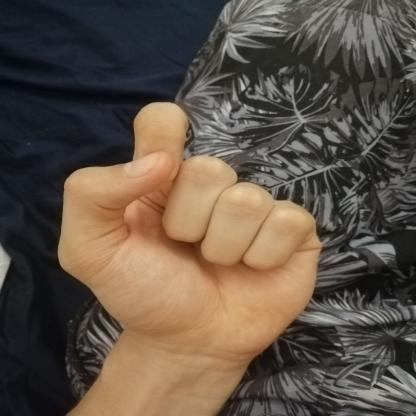FAA: (35, 92, 342, 376)
